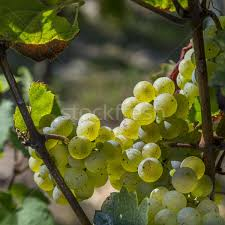grapes: (124, 75, 219, 221), (25, 112, 120, 197)
